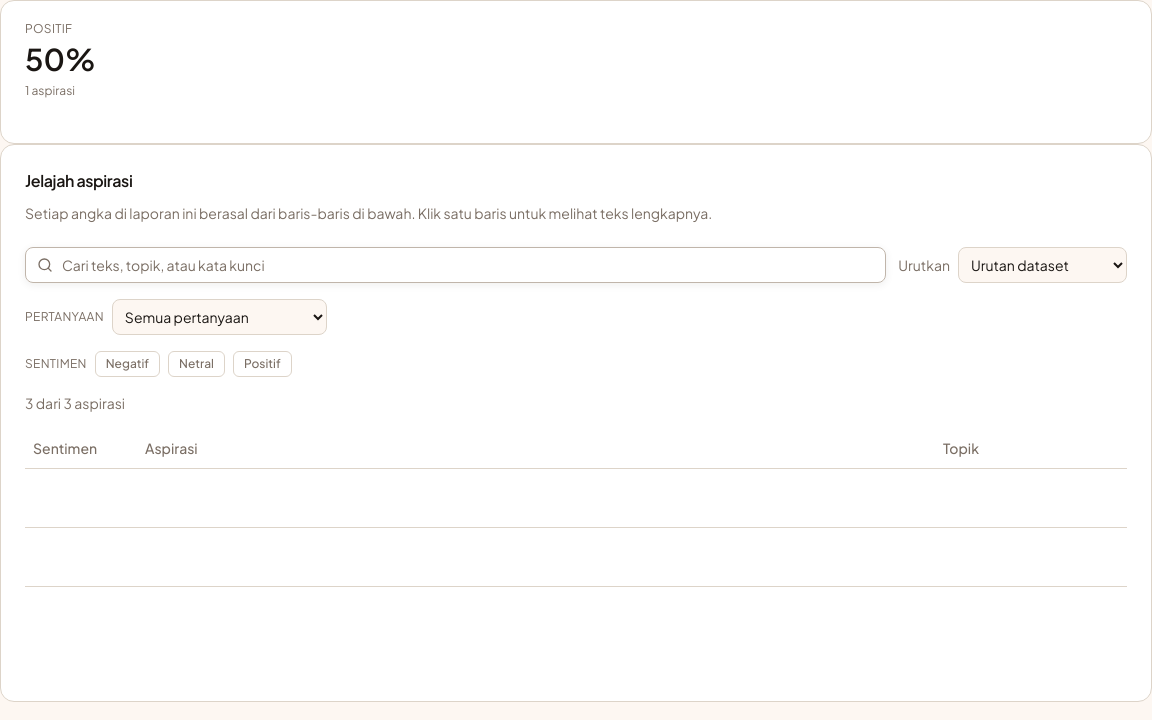
Test: evidence-first wiring across questions › opens only the answers to the question a tile belongs to
Click the button "Positif 50% 1 aspirasi" at (576, 72), box [0, 0, 1151, 144]
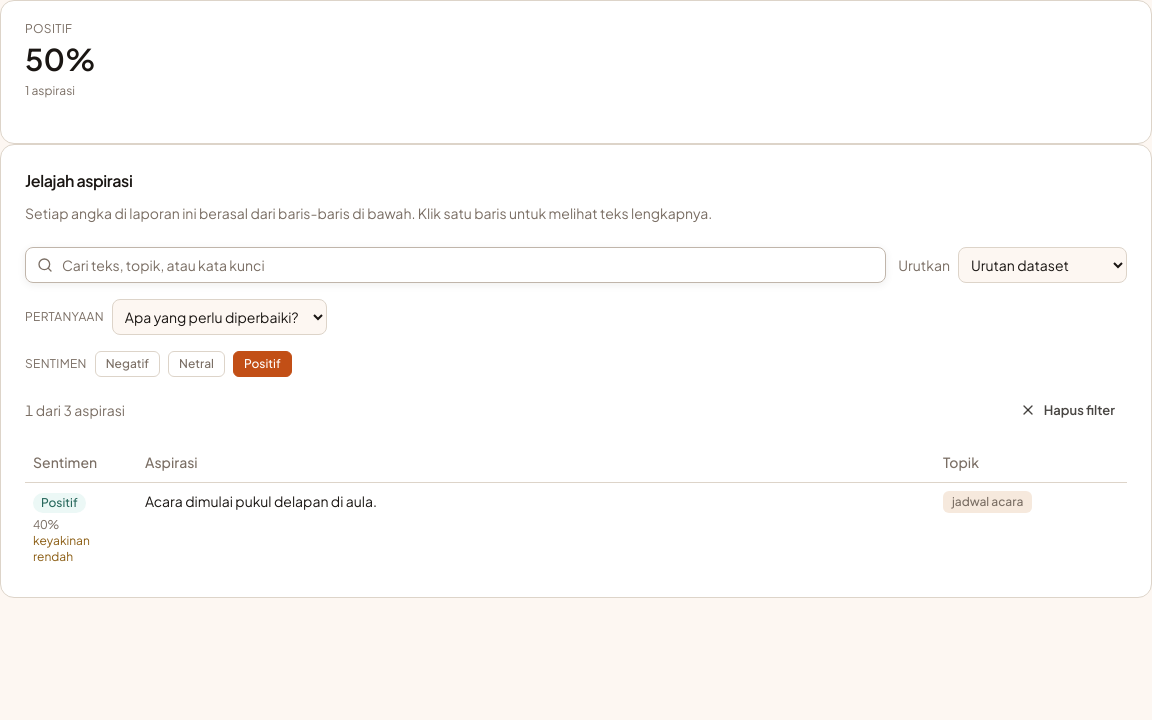
expect the text "1 dari 3 aspirasi" is shown: met, box [25, 400, 125, 420]
expect the text "Acara dimulai pukul delapan di aula." is shown: met, box [145, 492, 377, 510]
expect the dropdown labelled "Pertanyaan" shows "Apa yang perlu diperbaiki?": met, box [112, 298, 327, 334]
